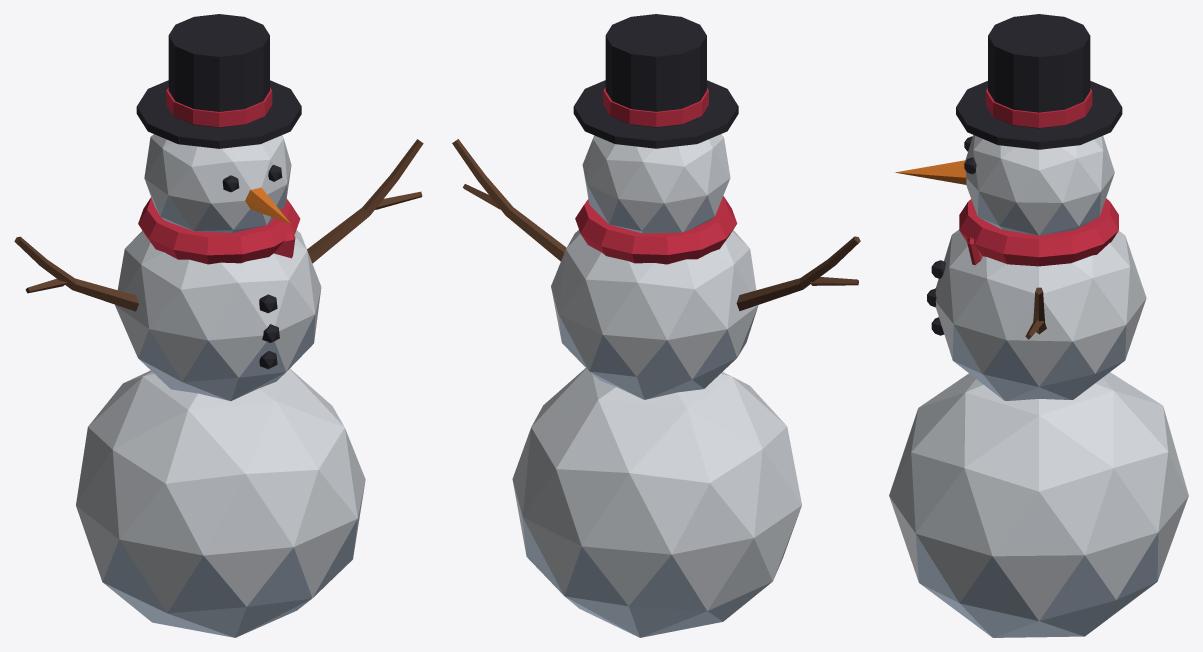
Rendered from Snowman.glb.
The picture shows the model from 3 angles, left to right: view 1: azimuth 30°, elevation 25°; view 2: azimuth 150°, elevation 25°; view 3: azimuth 270°, elevation 25°; orthographic projection.
Parts seen in each view (by area): view 1: Snowman; view 2: Snowman; view 3: Snowman.
Part boxes in pixels (x1=…): Snowman: x1=14, y1=14, x2=423, y2=637; Snowman: x1=452, y1=14, x2=860, y2=637; Snowman: x1=889, y1=14, x2=1188, y2=637.
Size of the model in its own units: 4.45 by 6.16 by 2.82.
